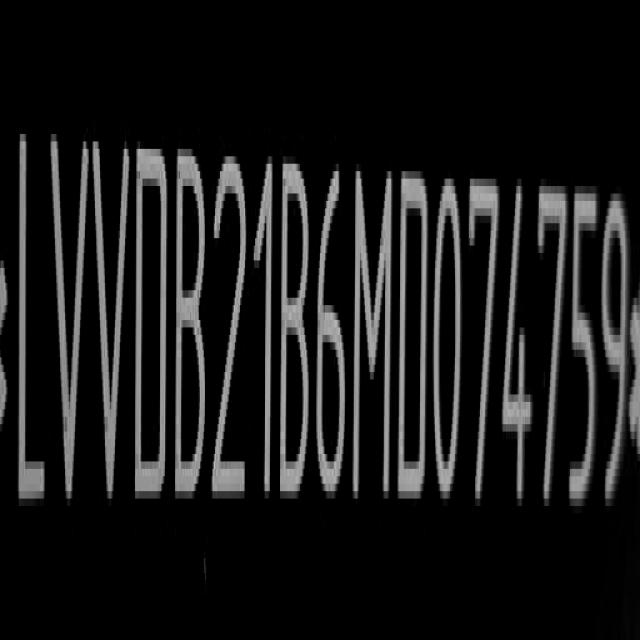0: (433, 168, 462, 510)
1: (255, 154, 277, 505)
2: (212, 149, 248, 502)
4: (503, 175, 534, 520)
5: (568, 179, 597, 519)
6: (316, 160, 347, 503)
7: (536, 173, 568, 518), (468, 167, 497, 516)
9: (601, 188, 629, 519)
B: (177, 147, 210, 505), (280, 156, 312, 502)
D: (133, 134, 169, 505), (398, 170, 432, 509)
L: (16, 126, 48, 517)
M: (352, 165, 391, 506)
V: (48, 125, 88, 512), (94, 127, 132, 509)
